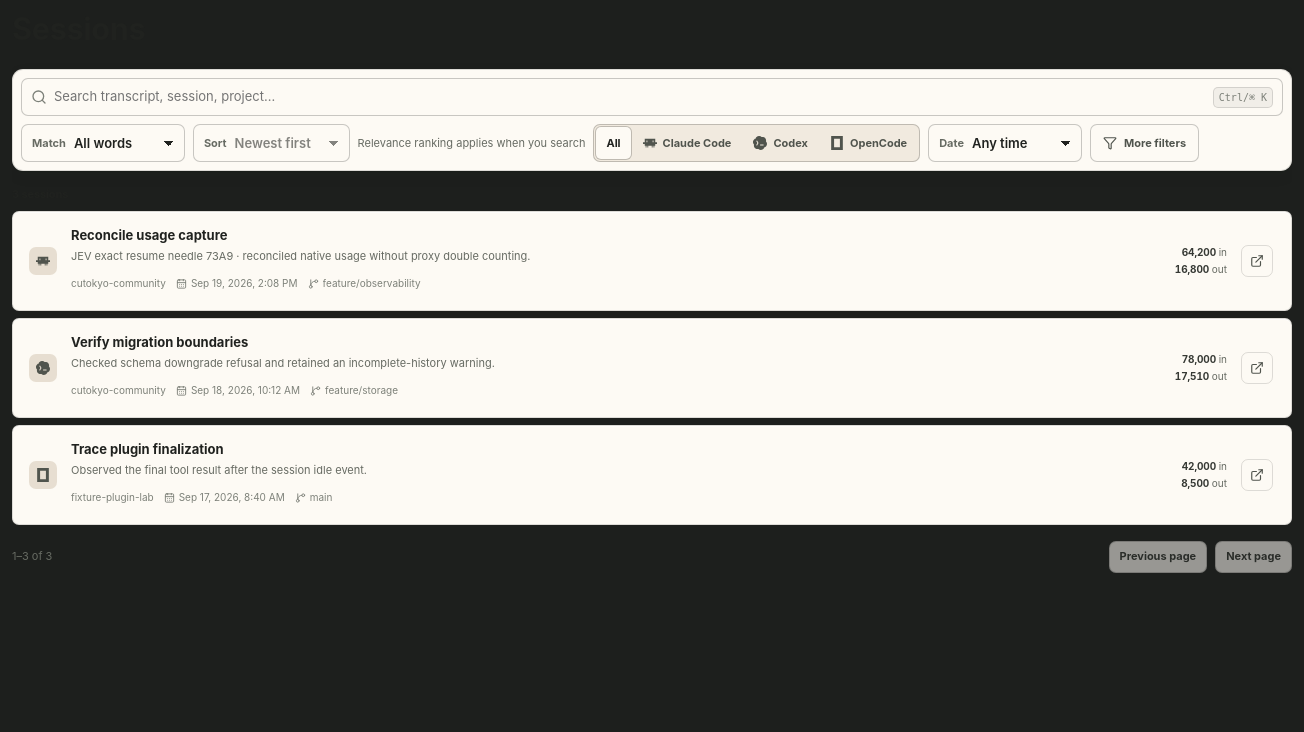
Scenario: desktop route components › searches one session without a per-row coverage badge
In the search field named "Search session content": (630, 97) [54, 78, 1206, 116], type "JEV exact resume needle 73A9"
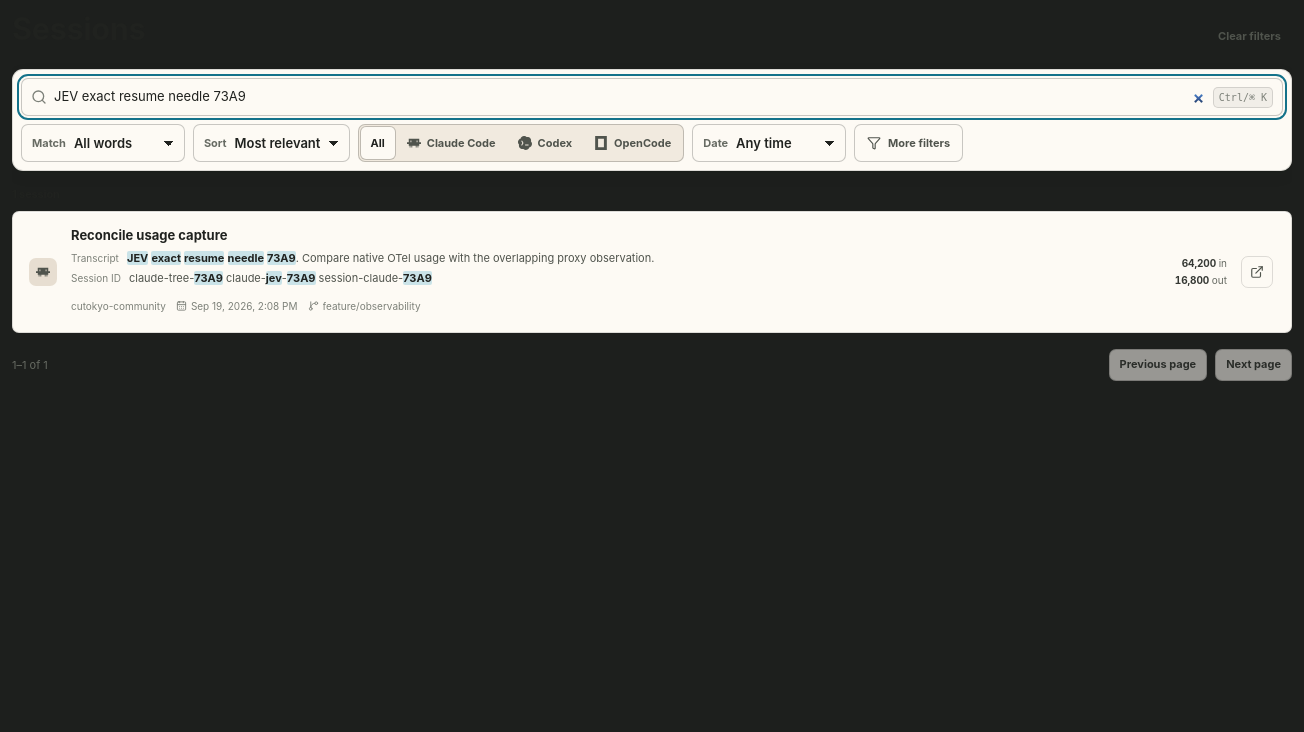
Expected: the link "Reconcile usage capture" is shown, [71, 226, 227, 245]
Expected: the text "complete" is gone
